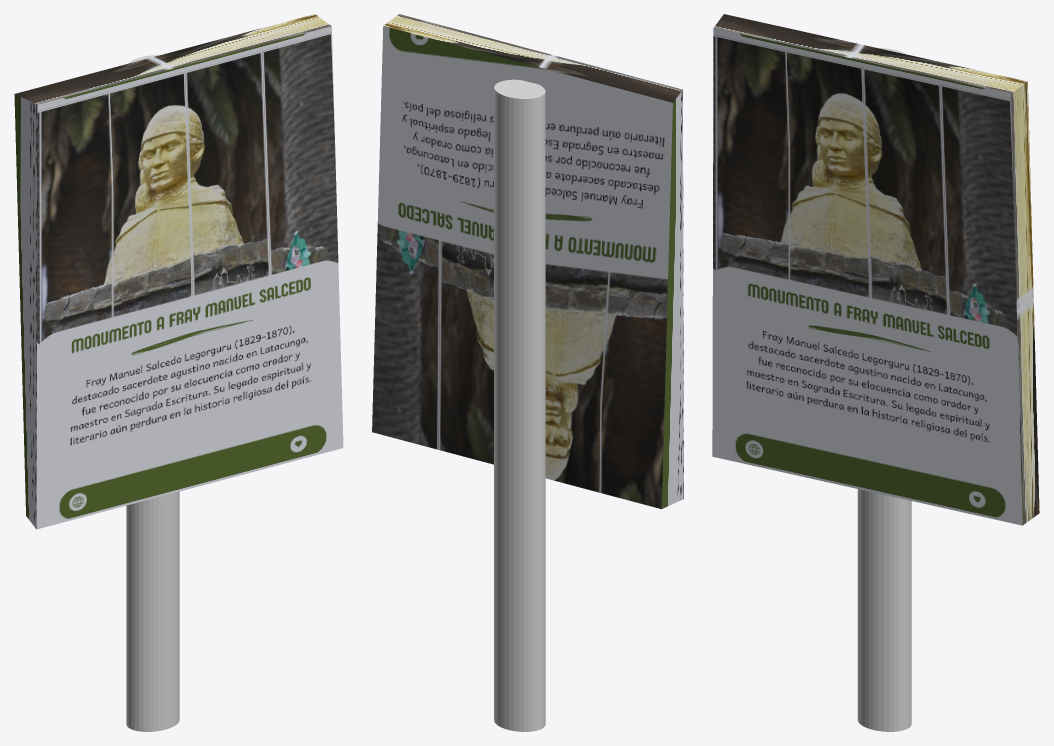
File: Cartel_Monumento_Fray.glb
3 renders of one model, left to right at view 1: azimuth 30°, elevation 25°; view 2: azimuth 150°, elevation 25°; view 3: azimuth 330°, elevation 25°, orthographic. The views are drawn at different scales.
Parts seen in each view (by area): view 1: Cubo, Cilindro; view 2: Cubo, Cilindro; view 3: Cubo, Cilindro.
Boxes of the visible parts, x1,y1,x2,y2 form: Cubo: (14, 14, 343, 529); Cilindro: (126, 55, 179, 731); Cubo: (372, 14, 683, 509); Cilindro: (494, 79, 545, 731); Cubo: (712, 14, 1039, 525); Cilindro: (857, 48, 911, 731).
Size of the model in its own units: 0.8639 by 1.79 by 0.1819.
1 material, 1 textured.
